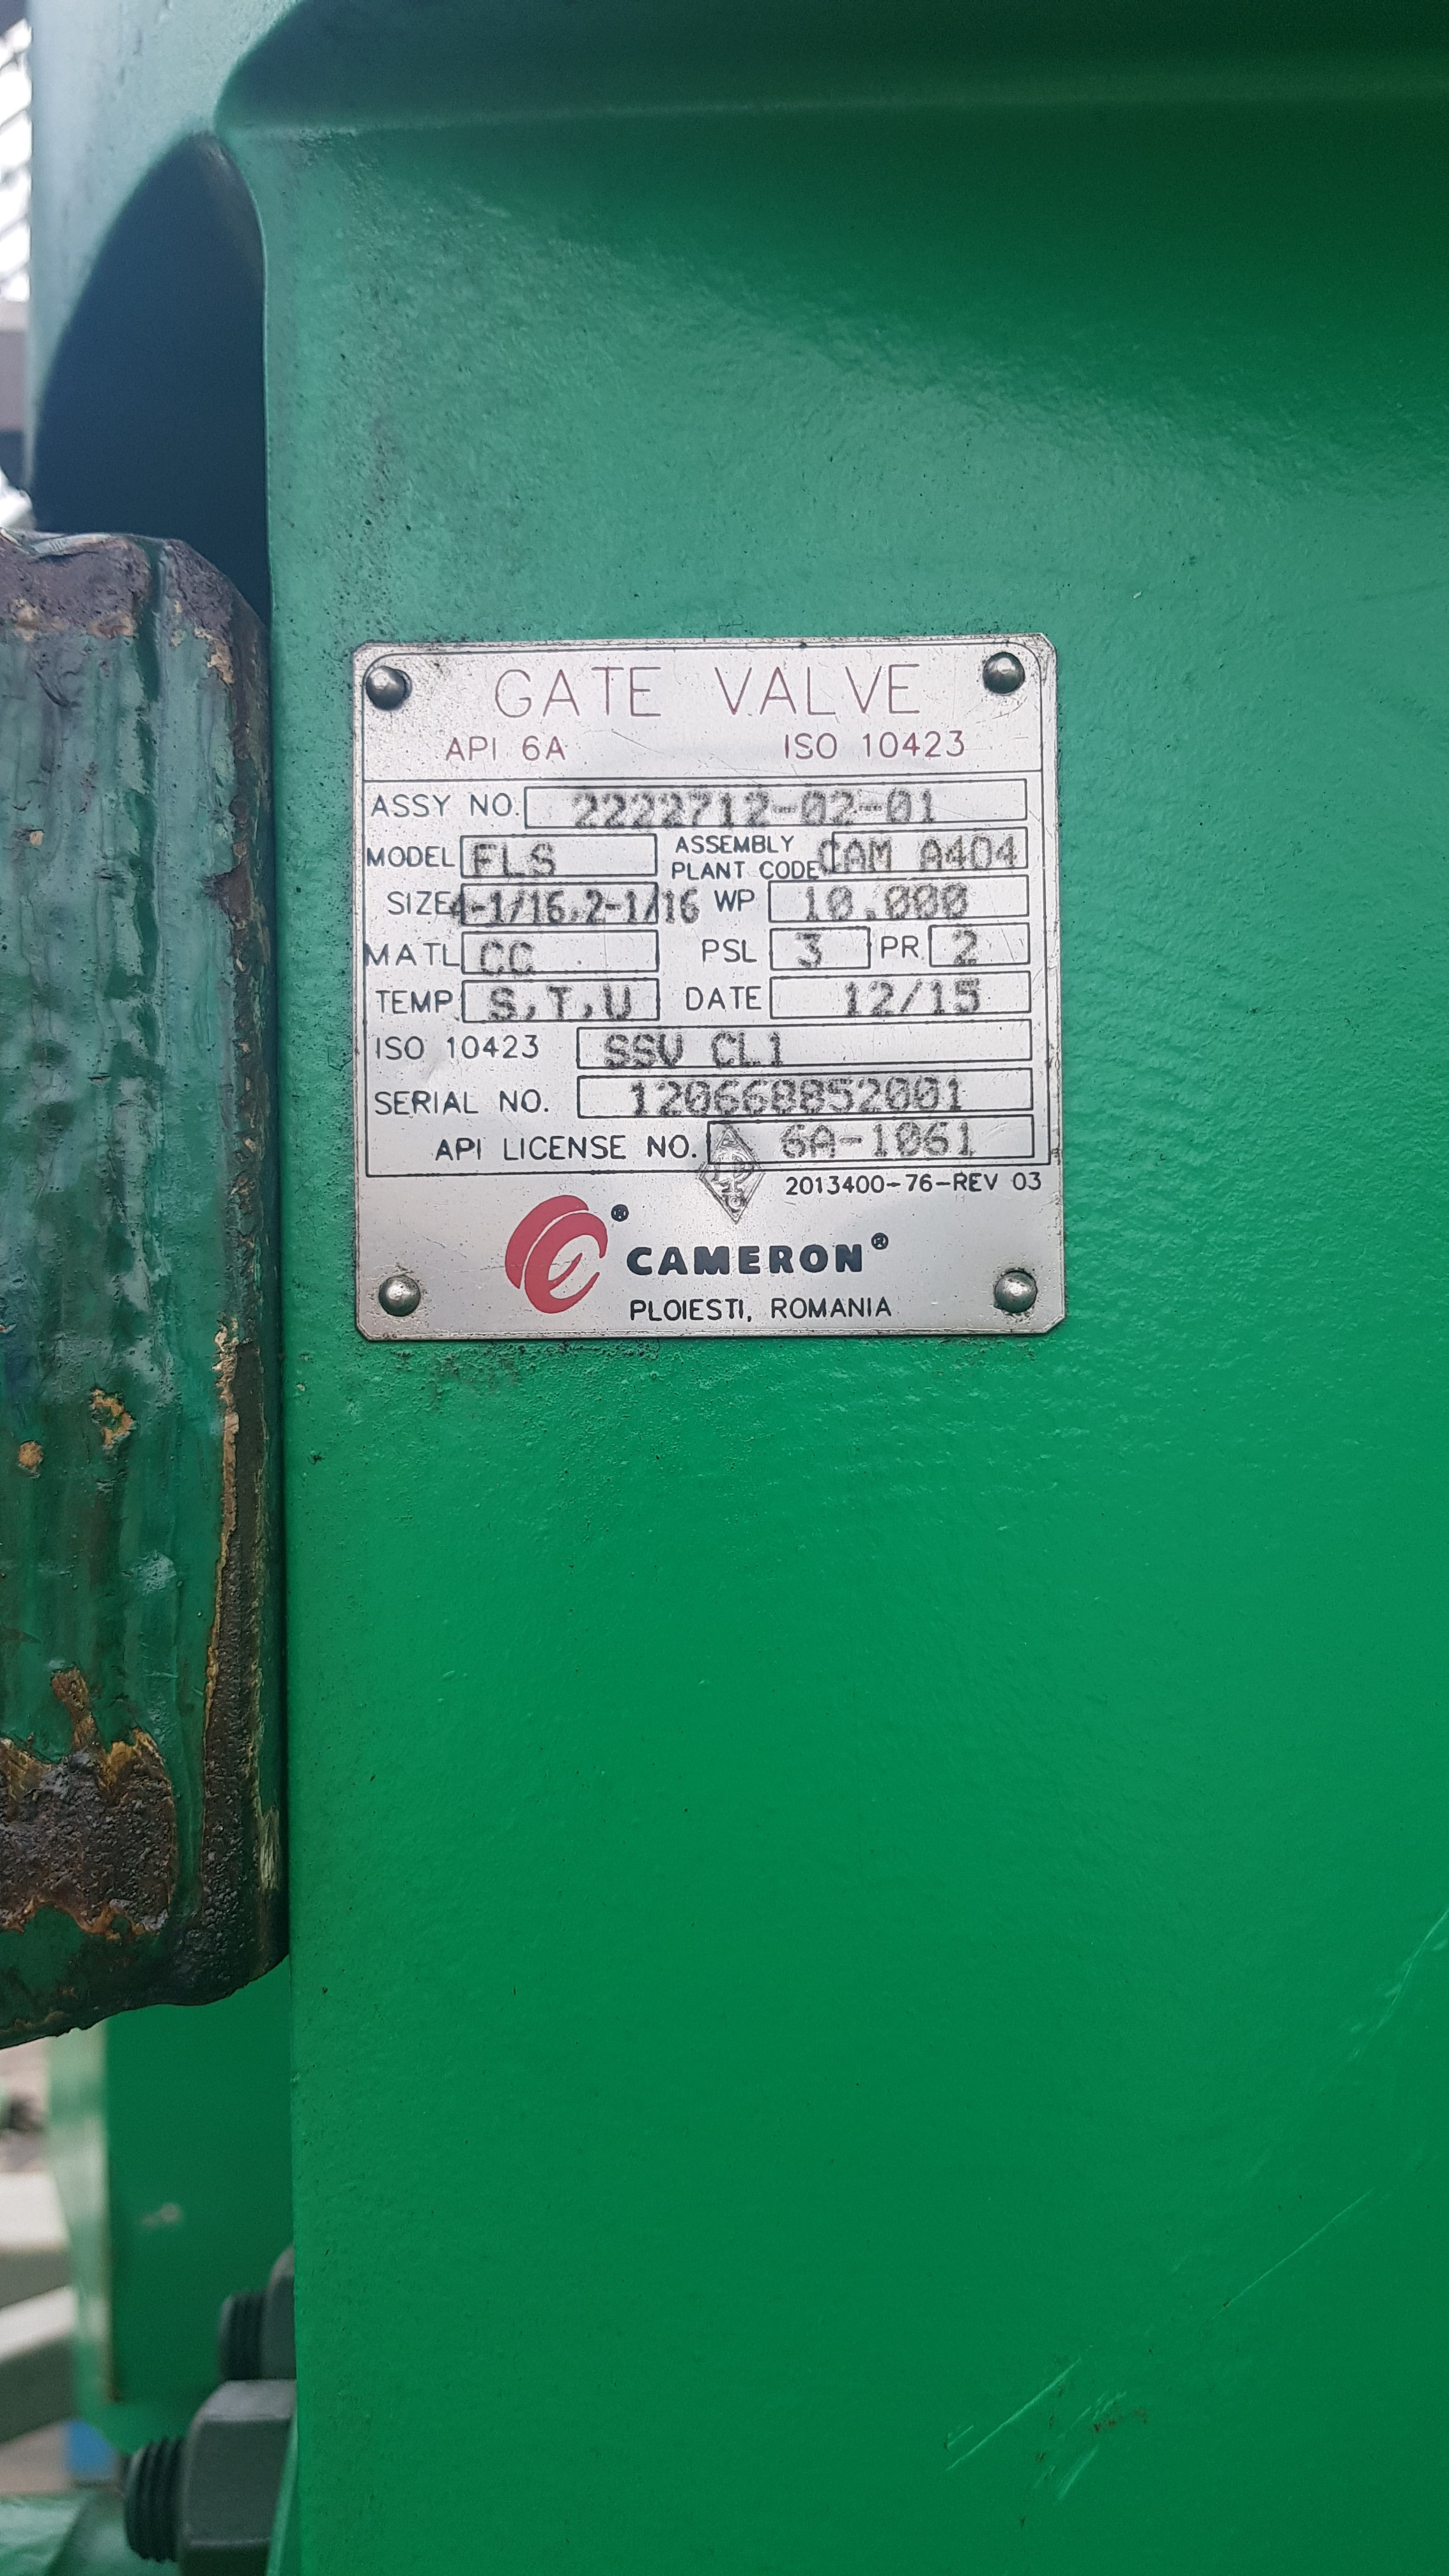character: (540, 669, 587, 724), (711, 662, 755, 718), (886, 660, 929, 718), (495, 665, 538, 722), (800, 665, 842, 720), (626, 667, 665, 724), (589, 662, 626, 720), (846, 663, 883, 718), (759, 663, 798, 715), (598, 984, 642, 1021), (793, 1076, 828, 1118), (934, 883, 970, 924), (800, 786, 830, 833), (655, 787, 688, 830), (881, 1072, 916, 1111), (596, 789, 630, 830), (911, 1070, 943, 1113), (791, 931, 826, 968), (948, 931, 982, 970), (543, 984, 577, 1023), (863, 980, 897, 1019), (529, 839, 561, 879), (966, 830, 996, 872), (828, 1074, 858, 1116), (856, 1074, 886, 1116), (713, 1076, 741, 1120), (768, 1076, 796, 1120), (566, 791, 600, 828), (892, 1120, 924, 1159), (895, 978, 925, 1019), (941, 1074, 971, 1115), (924, 1120, 954, 1161), (823, 885, 856, 920), (865, 837, 897, 874), (916, 837, 948, 874), (506, 941, 538, 978), (732, 1031, 764, 1069), (685, 1079, 715, 1118), (741, 1077, 771, 1116), (743, 787, 771, 828), (886, 784, 915, 824), (676, 888, 704, 929), (656, 1033, 688, 1069), (764, 1028, 791, 1070), (476, 941, 506, 978), (952, 980, 982, 1017), (706, 1030, 736, 1067), (780, 1123, 810, 1161), (713, 793, 741, 832), (913, 883, 941, 922), (490, 987, 520, 1023), (628, 1033, 658, 1069), (839, 980, 867, 1017), (630, 791, 656, 830), (885, 883, 911, 922), (807, 1125, 837, 1159), (605, 1030, 630, 1070), (469, 839, 497, 874), (499, 842, 527, 878), (686, 791, 713, 828), (584, 885, 605, 931), (832, 791, 856, 830), (957, 1122, 980, 1162), (842, 839, 867, 876), (994, 833, 1019, 870), (658, 1079, 683, 1116), (915, 787, 938, 826), (485, 888, 508, 927), (508, 888, 531, 927), (617, 888, 640, 927), (925, 980, 948, 1019), (943, 833, 968, 869), (869, 1122, 890, 1162), (543, 888, 566, 925), (800, 886, 821, 925), (640, 885, 660, 925), (660, 886, 679, 927), (626, 1081, 651, 1113), (448, 890, 469, 925), (816, 842, 839, 874), (525, 890, 545, 927), (773, 801, 801, 819), (856, 803, 885, 819), (837, 1132, 865, 1148), (605, 902, 621, 915), (469, 904, 485, 915)
